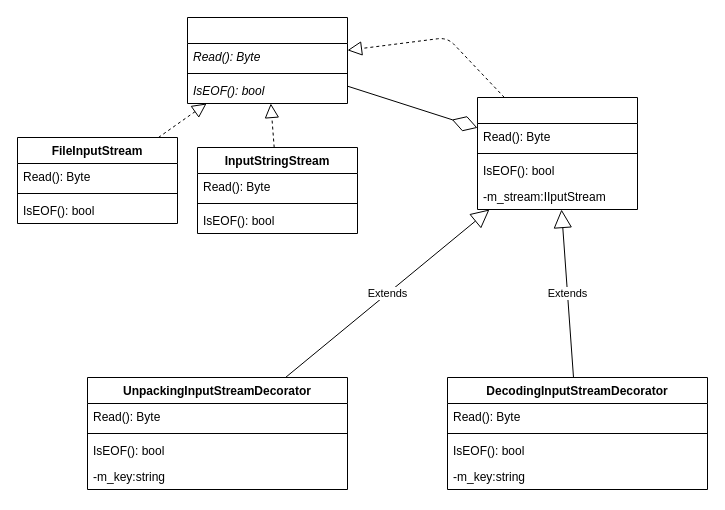
Some shapes in this 725 by 510 pixel diagram are drawn without their labels. Each missing label, with the box of its shape:
IInputStream: (186, 16, 348, 104)
InputStreamDecorator: (476, 96, 638, 210)
